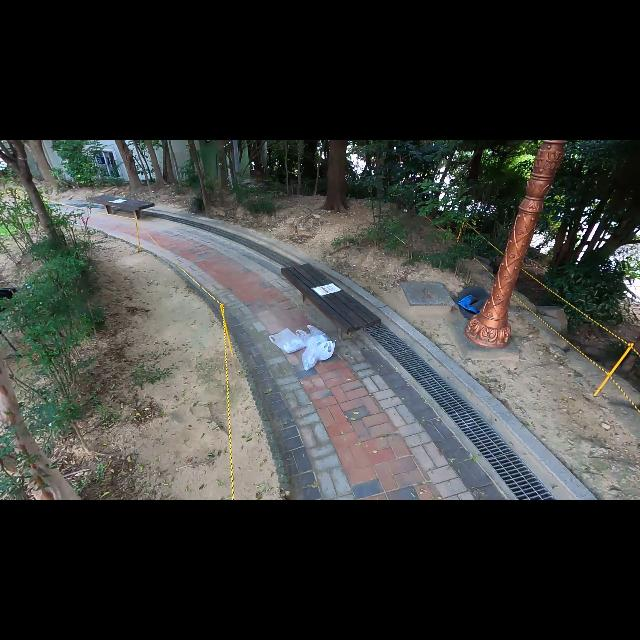trash: (452, 285, 492, 321), (270, 327, 306, 353), (295, 324, 331, 348), (314, 339, 338, 363), (302, 337, 318, 371)
